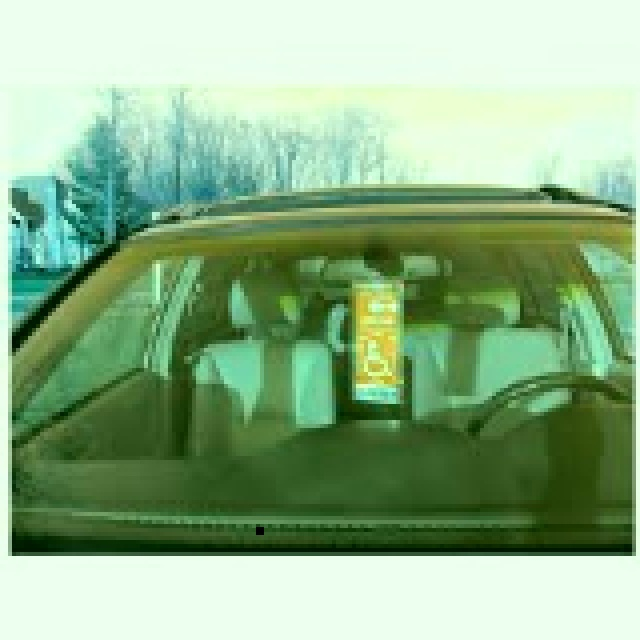ISA: (361, 338, 388, 378)
